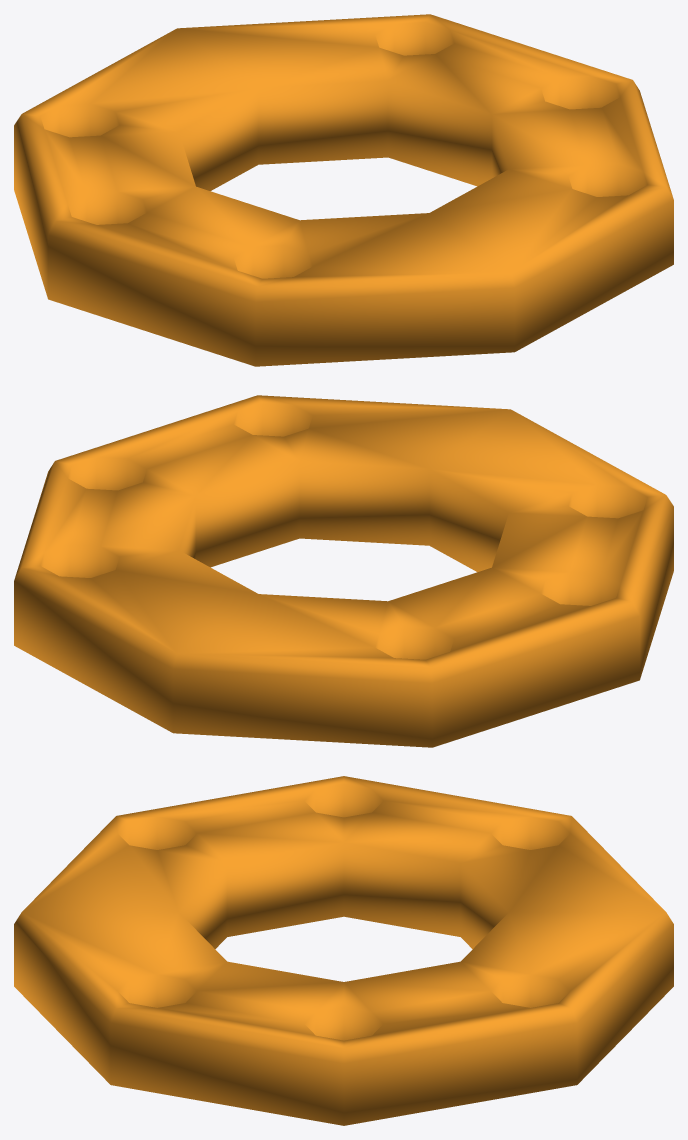
The model's file is KukaKR5ArcLink6.dae.
The picture shows the model from 3 angles, top to bottom: view 1: azimuth 30°, elevation 25°; view 2: azimuth 150°, elevation 25°; view 3: azimuth 270°, elevation 25°; orthographic projection. The views are drawn at different scales.
Parts seen in each view (by area): view 1: link6; view 2: link6; view 3: link6.
Boxes of the visible parts, left/top/right/bottom form: link6: left=14, top=14, right=673, bottom=366; link6: left=14, top=395, right=673, bottom=747; link6: left=14, top=776, right=673, bottom=1125.
Bounding box in the file's own units: 0.05 × 0.05 × 0.0062.
